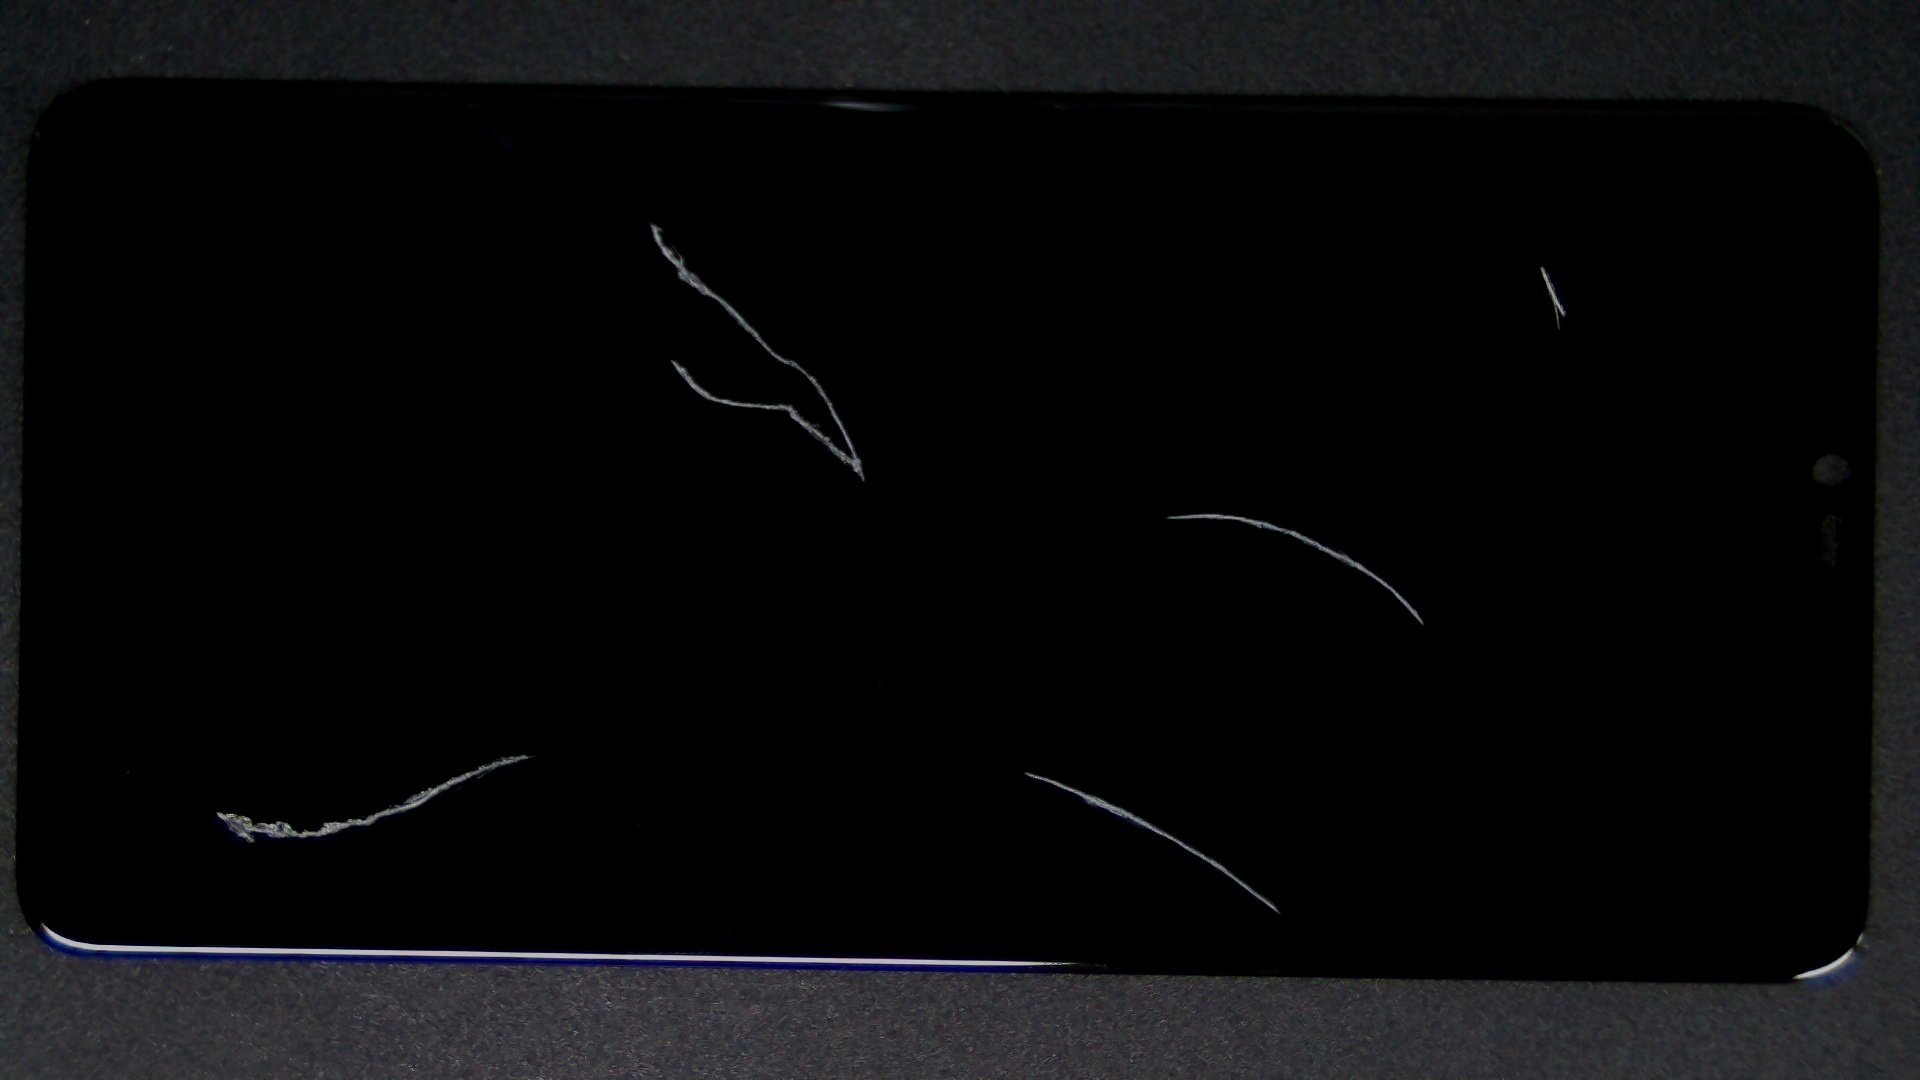oil: (514, 385, 1542, 1080), (600, 256, 1797, 769), (262, 376, 786, 1080), (770, 131, 1920, 400), (323, 108, 971, 331)
